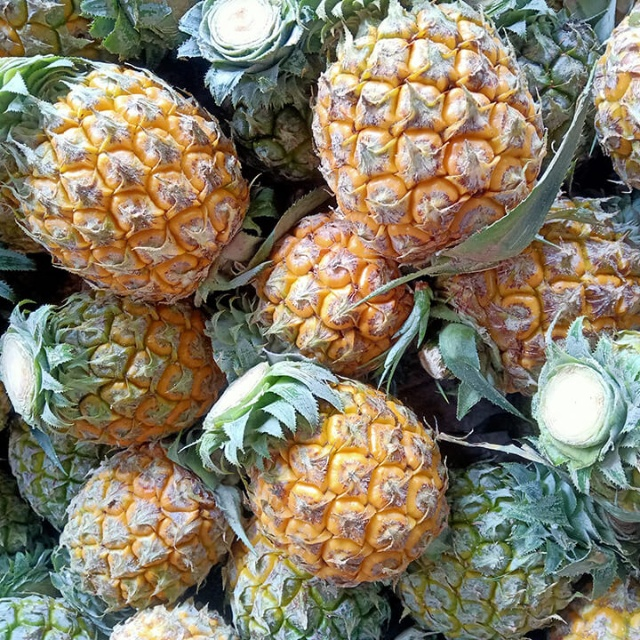thom: (3, 48, 245, 302), (303, 23, 553, 266), (221, 363, 461, 587), (31, 442, 233, 612)
